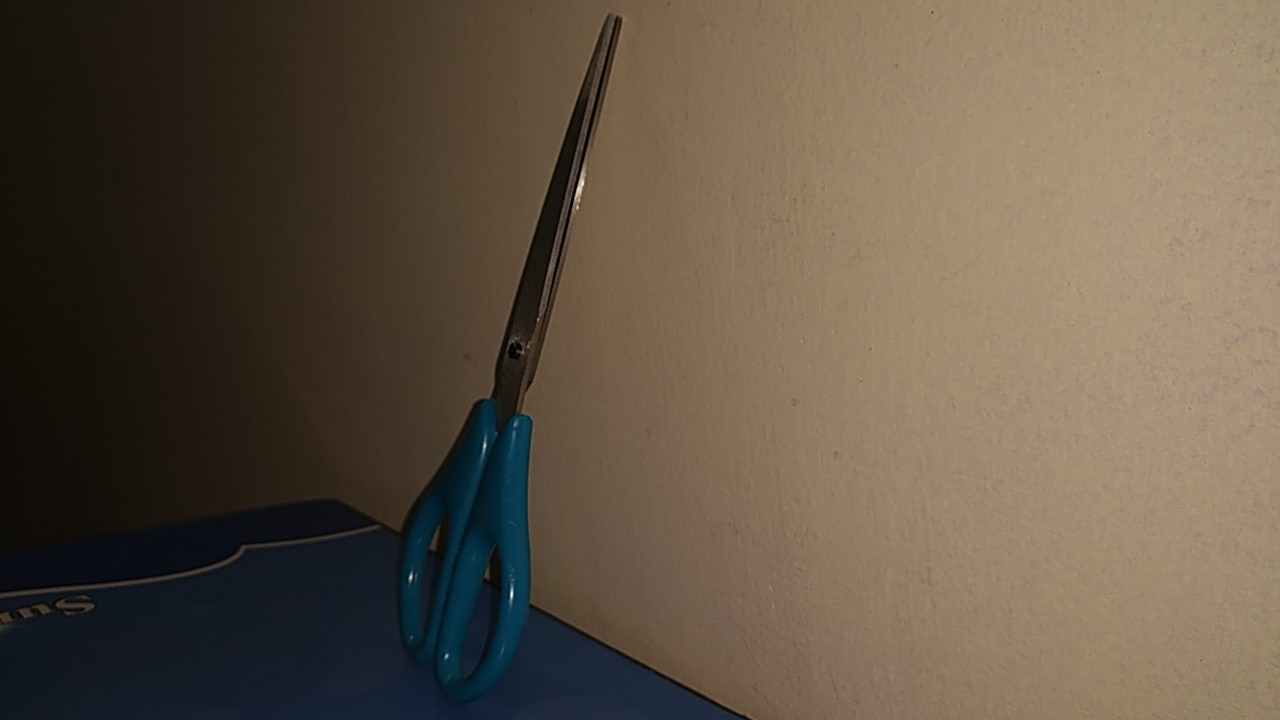scissor: (364, 5, 650, 709)
